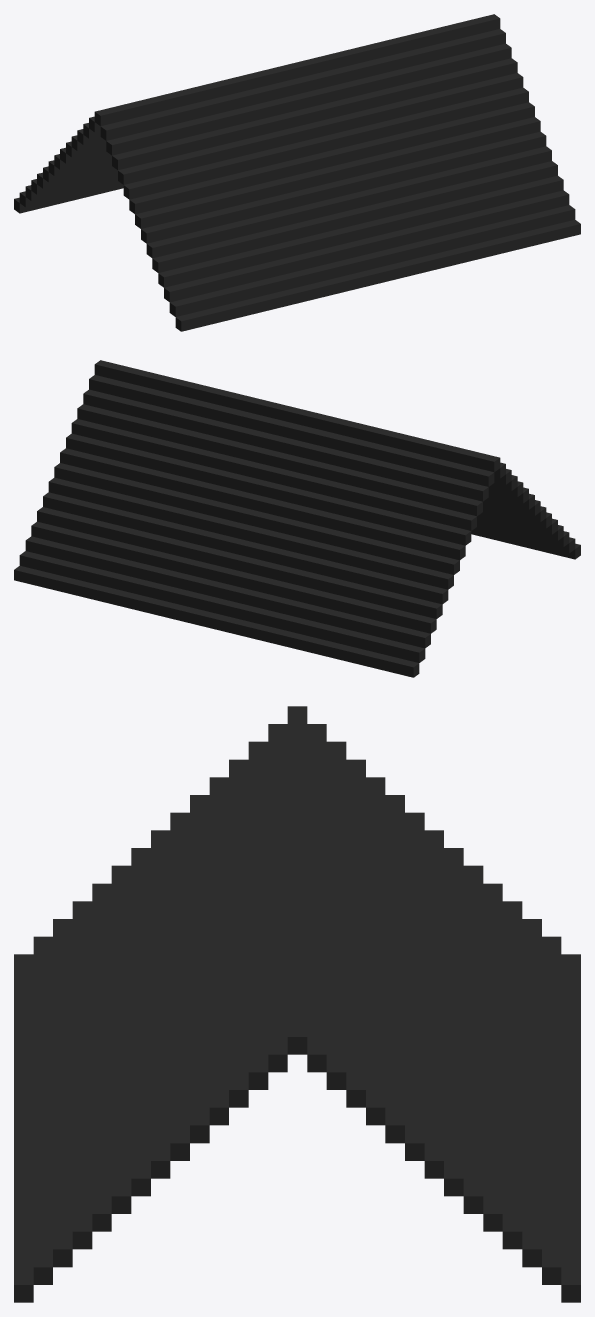
Rendered from ConstructionMaterials-25.obj.
The picture shows the model from 3 angles, top to bottom: view 1: azimuth 30°, elevation 25°; view 2: azimuth 150°, elevation 25°; view 3: azimuth 270°, elevation 25°; orthographic projection. The views are drawn at different scales.
Size of the model in its own units: 4 by 1.5 by 2.9.
Materials: 1 (1 with a texture image).
